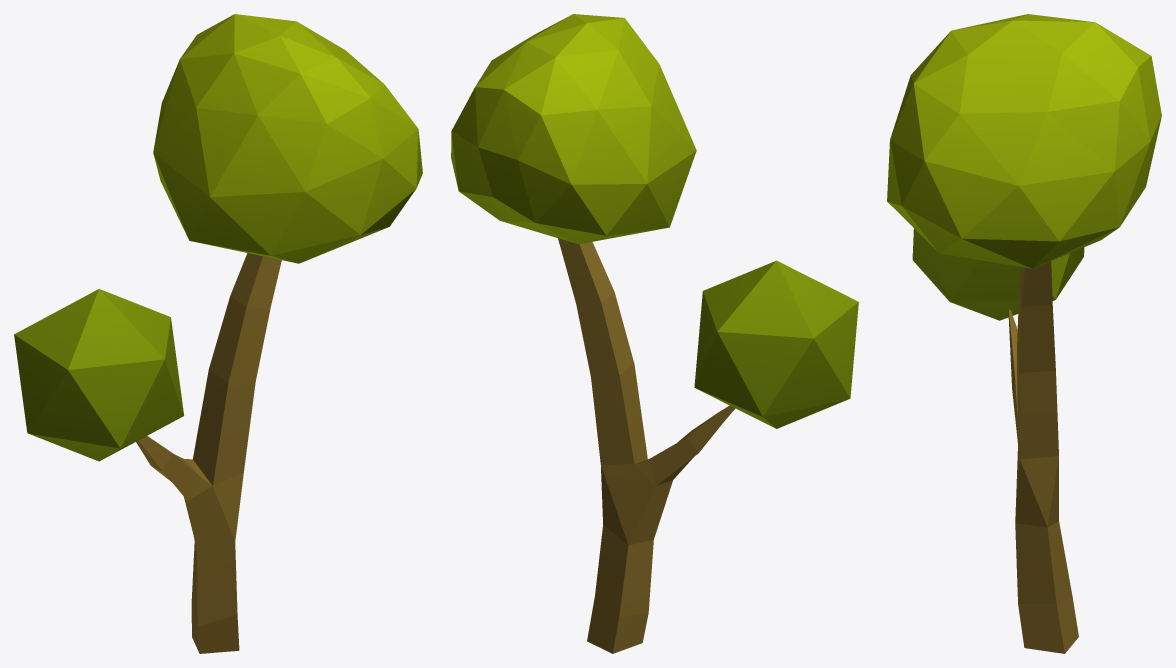
Rendered from tree_3.fbx.
3 renders of one model, left to right at view 1: azimuth 30°, elevation 25°; view 2: azimuth 150°, elevation 25°; view 3: azimuth 270°, elevation 25°, orthographic. The views are drawn at different scales.
Visible parts, largest first — view 1: tree_3; view 2: tree_3; view 3: tree_3.
Boxes of the visible parts, x1,y1,x2,y2 form: tree_3: (14,14,422,653); tree_3: (451,14,858,653); tree_3: (887,14,1161,653).
Bounding box in the file's own units: 1.47 × 2.26 × 0.8727.
